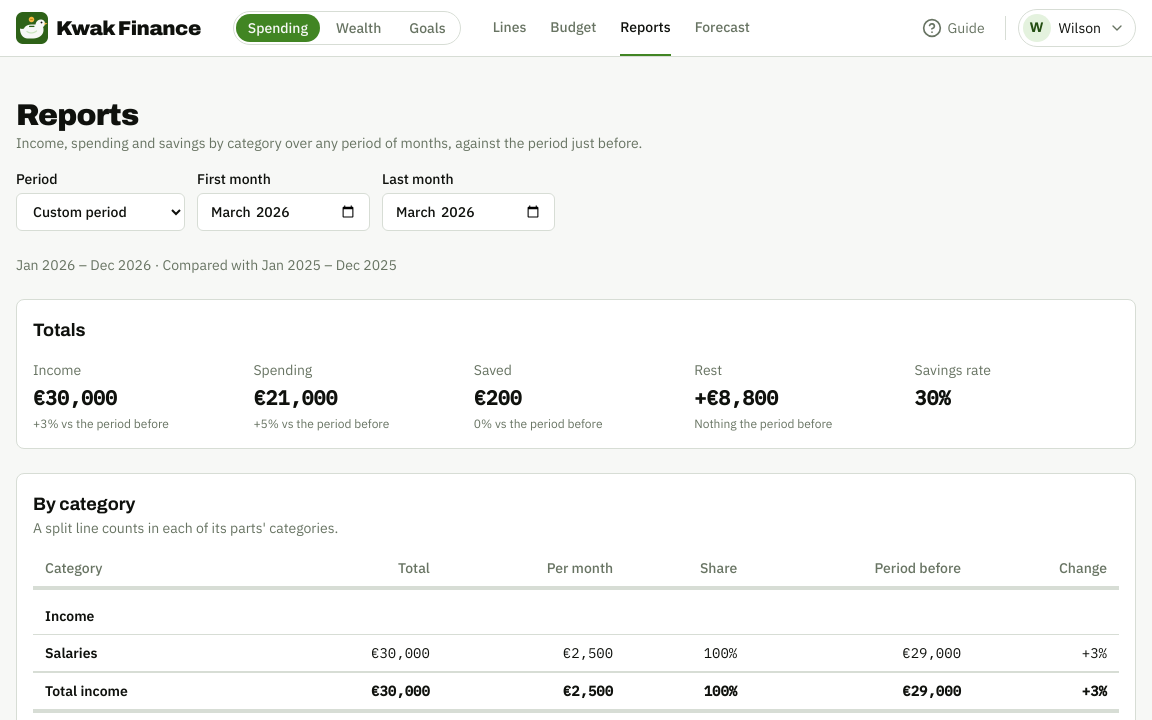
Test: the reports tab goes back to this year after a link to one month
Expected: the element "Totals" is shown, [16,299,1136,449]
Click the link "Reports" at (645, 28), box [620,0,671,56]
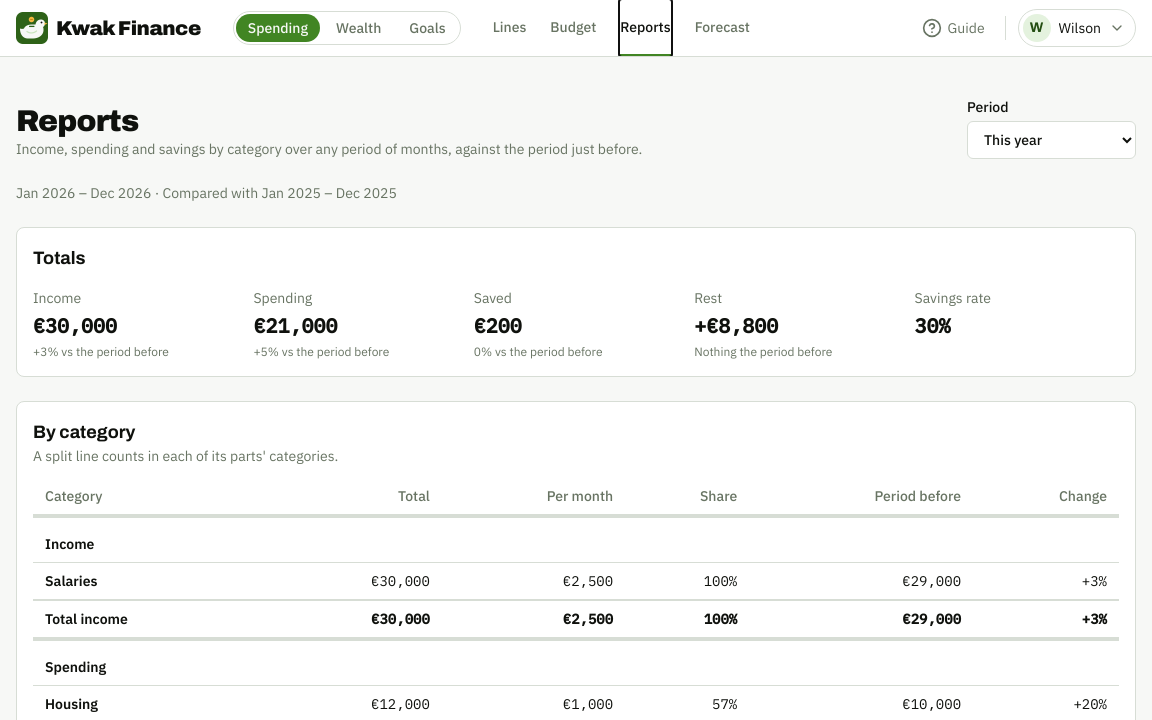
Now the dropdown labelled "Period" shows "This year", box [967,121,1136,159]
